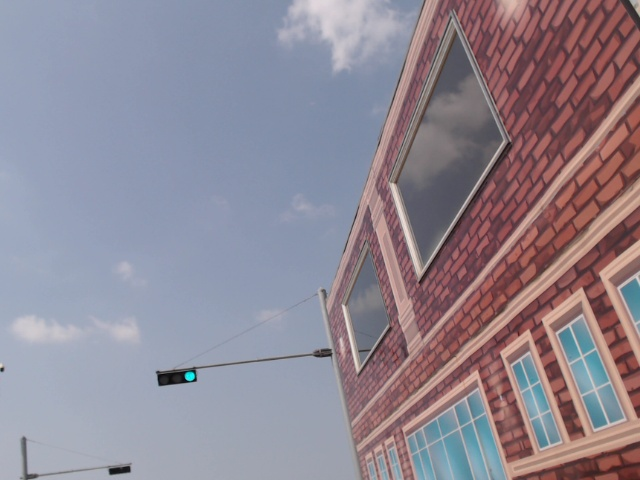green_3: (156, 370, 198, 386)
